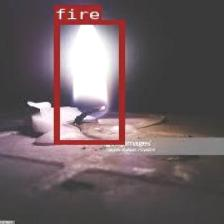fire: (53, 19, 123, 144)
